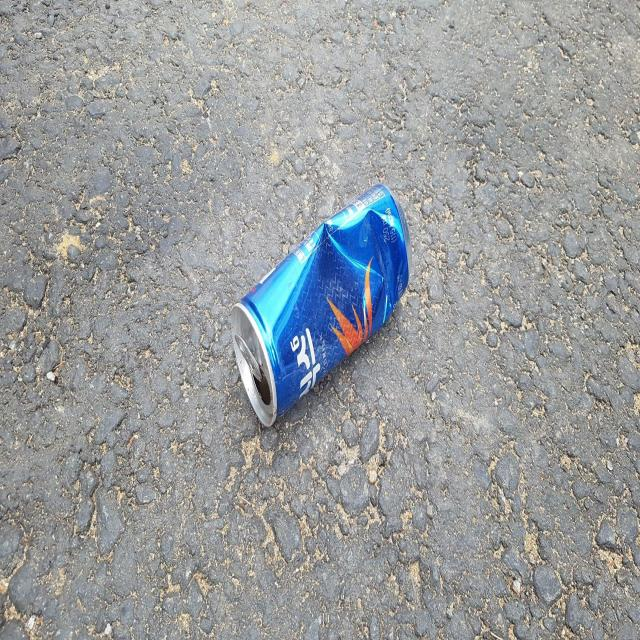can: (231, 184, 413, 426)
